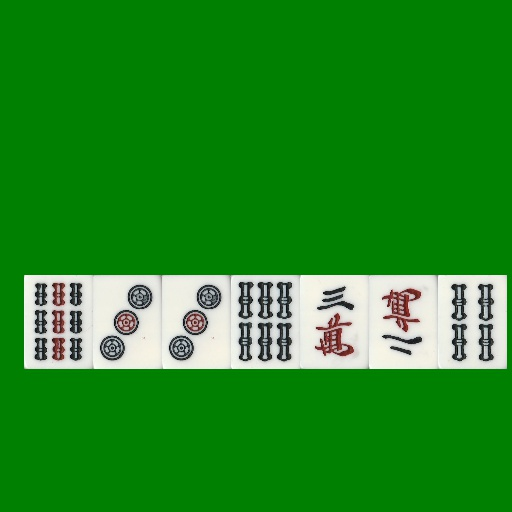2m: (369, 275, 438, 369)
3m: (300, 275, 369, 369)
3p: (93, 275, 162, 369), (162, 275, 231, 369)
4s: (438, 275, 507, 369)
6s: (231, 275, 300, 369)
9s: (24, 275, 93, 369)
